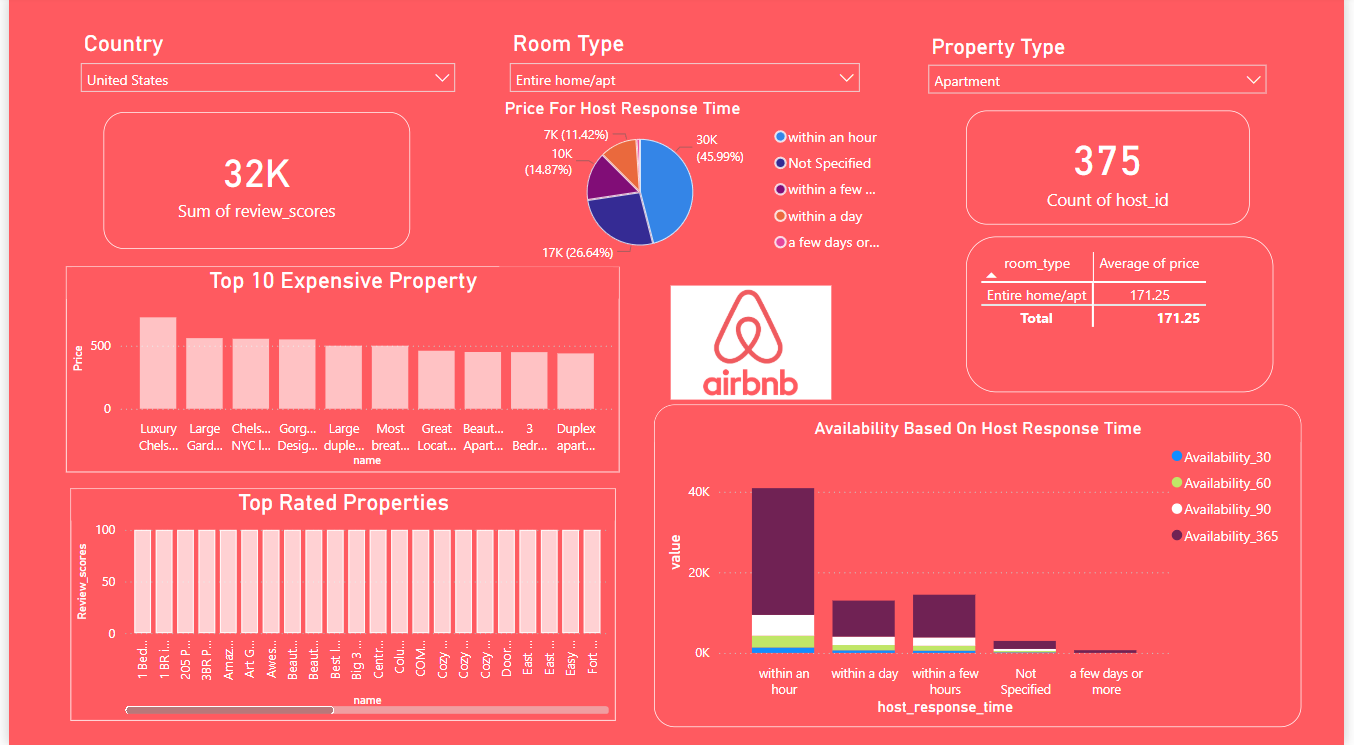

The dashboard page shown, as its layout file describes it:
{"tool":"powerbi","page":{"name":"Page 1","canvas":[1280,720],"ordinal":0},"visuals":[{"type":"slicer","fields":{"Values":["airbnb_data_cleaned.country"]},"box":[58.4,28.4,379,82.1],"z":0},{"type":"slicer","fields":{"Values":["airbnb_data_cleaned.room_type"]},"box":[470.5,28.4,355.3,69.5],"z":1000},{"type":"slicer","fields":{"Values":["airbnb_data_cleaned.property_type"]},"box":[871.6,31.6,344.2,66.3],"z":2000},{"type":"card","fields":{"Values":["Sum(airbnb_data_cleaned.review_scores)"]},"box":[90,112.1,293.7,131.1],"z":3000},{"type":"card","fields":{"Values":["CountNonNull(airbnb_data_cleaned.host_id)"]},"box":[917.5,110.7,271.8,109.3],"z":4000},{"type":"clusteredColumnChart","title":"Top Rated Properties","fields":{"Category":["airbnb_data_cleaned.name"],"Y":["Avg(airbnb_data_cleaned.review_scores)"]},"box":[58.4,473.7,522.6,222.6],"z":4001},{"type":"clusteredColumnChart","title":"Top 10 Expensive Property","fields":{"Category":["airbnb_data_cleaned.name"],"Y":["Sum(airbnb_data_cleaned.price)"]},"box":[55.3,260.5,530.5,197.4],"z":4002},{"type":"image","box":[618.4,273.2,185.5,119.4],"z":4003},{"type":"pivotTable","fields":{"Rows":["airbnb_data_cleaned.room_type"],"Values":["Avg(airbnb_data_cleaned.price)"]},"box":[917.5,231.5,294.8,149.6],"z":4004},{"type":"pieChart","title":"Price For Host Response Time","fields":{"Category":["airbnb_data_cleaned.host_response_time"],"Y":["Sum(airbnb_data_cleaned.price)"]},"box":[470.3,97.8,379.7,162.5],"z":4006},{"type":"columnChart","title":"Availability Based On Host Response Time","fields":{"Category":["airbnb_data_cleaned.host_response_time"],"Y":["Sum(airbnb_data_cleaned.availability_30)","Sum(airbnb_data_cleaned.availability_60)","Sum(airbnb_data_cleaned.availability_90)","Sum(airbnb_data_cleaned.availability_365)"]},"box":[619,393.2,620.5,309.5],"z":4007}]}

Visuals, with their boxes in screenshot pixels (x1, y1, x2, y2), scaled from the page's 1280x720 canvas onto the 1354x745 screenshot:
slicer - airbnb_data_cleaned.country: region(62, 29, 463, 114)
slicer - airbnb_data_cleaned.room_type: region(498, 29, 874, 101)
slicer - airbnb_data_cleaned.property_type: region(922, 33, 1286, 101)
card - Sum(airbnb_data_cleaned.review_scores): region(95, 116, 406, 252)
card - CountNonNull(airbnb_data_cleaned.host_id): region(971, 115, 1258, 228)
"Top Rated Properties" clusteredColumnChart: region(62, 490, 615, 720)
"Top 10 Expensive Property" clusteredColumnChart: region(58, 270, 620, 474)
image: region(654, 283, 850, 406)
pivotTable - airbnb_data_cleaned.room_type x Avg(airbnb_data_cleaned.price): region(971, 240, 1282, 394)
"Price For Host Response Time" pieChart: region(497, 101, 899, 269)
"Availability Based On Host Response Time" columnChart: region(655, 407, 1311, 727)
